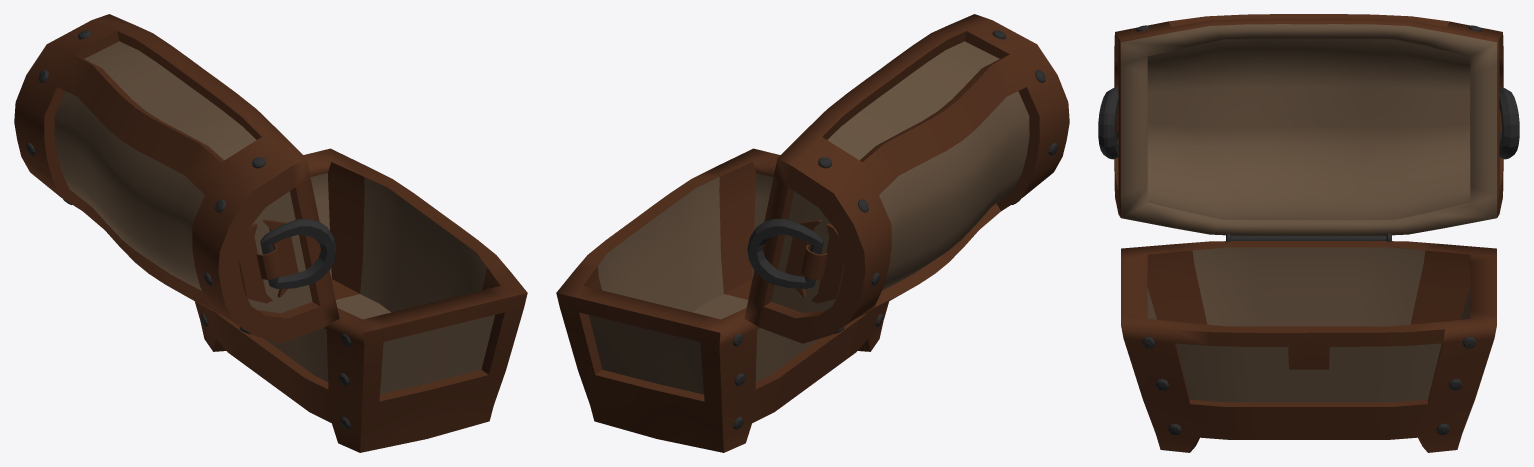
The model's file is TreasureChestAnimatedV2.fbx.
3 renders of one model, left to right at view 1: azimuth 30°, elevation 25°; view 2: azimuth 150°, elevation 25°; view 3: azimuth 270°, elevation 25°, orthographic. The views are drawn at different scales.
Visible parts, largest first — view 1: Smooth_top.011, Smooth_top.017; view 2: Smooth_top.011, Smooth_top.017; view 3: Smooth_top.011, Smooth_top.017.
Part boxes in pixels (left/top/right/bottom): Smooth_top.011: left=14, top=14, right=339, bottom=343; Smooth_top.017: left=195, top=148, right=527, bottom=452; Smooth_top.011: left=744, top=14, right=1069, bottom=343; Smooth_top.017: left=556, top=148, right=888, bottom=452; Smooth_top.011: left=1098, top=14, right=1519, bottom=235; Smooth_top.017: left=1121, top=233, right=1496, bottom=452.
Size of the model in its own units: 194 by 194 by 225.
